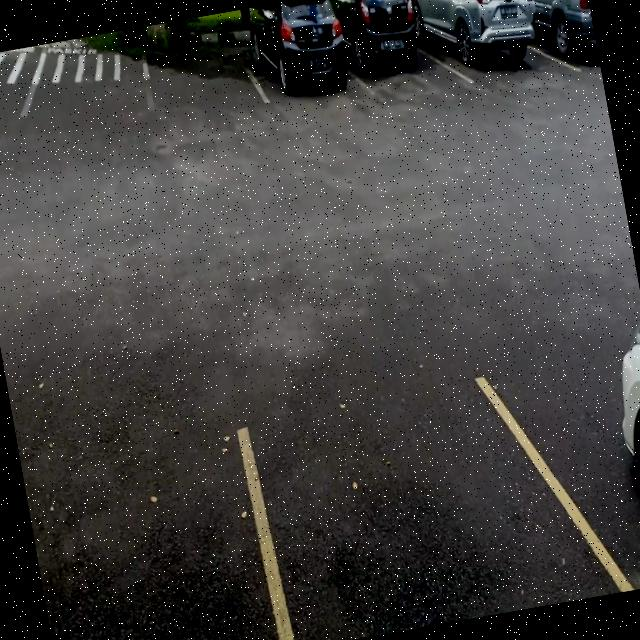empty: (236, 369, 594, 640), (137, 15, 264, 119)
occupied: (410, 0, 546, 92), (243, 0, 354, 102), (338, 0, 430, 96)
